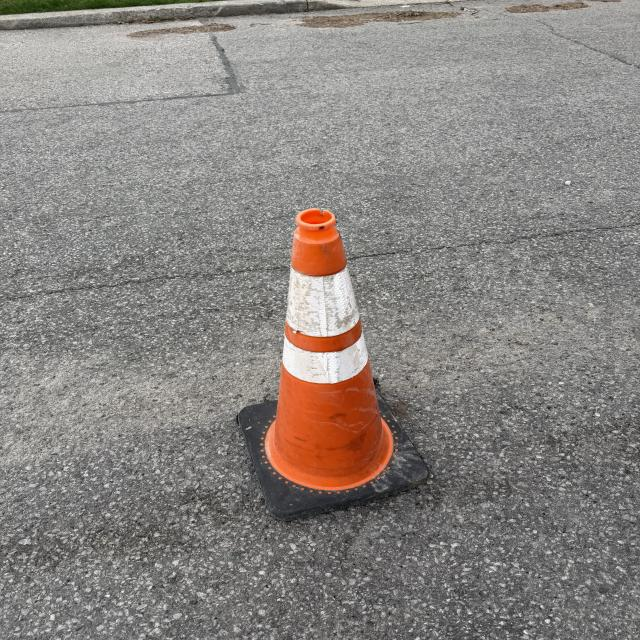Traffic Cone: (236, 209, 433, 521)
